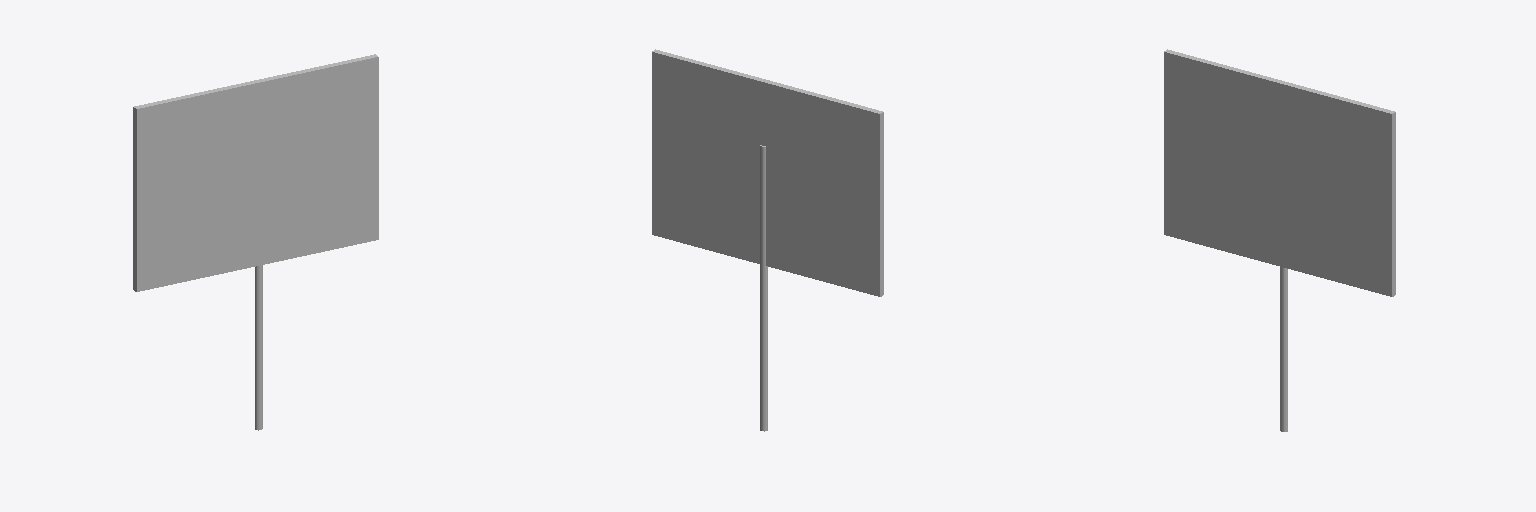
File: board_5.obj
The picture shows the model from 3 angles: view 1: azimuth 30°, elevation 25°; view 2: azimuth 150°, elevation 25°; view 3: azimuth 330°, elevation 25°; orthographic projection.
Visible parts, largest first — view 1: Cube.019_Cube.020, Cylinder.019; view 2: Cube.019_Cube.020, Cylinder.019; view 3: Cube.019_Cube.020, Cylinder.019.
Boxes of the visible parts, x1=… form: Cube.019_Cube.020: x1=133, y1=54, x2=378, y2=291; Cylinder.019: x1=255, y1=265, x2=262, y2=430; Cube.019_Cube.020: x1=652, y1=49, x2=883, y2=296; Cylinder.019: x1=760, y1=145, x2=767, y2=431; Cube.019_Cube.020: x1=1164, y1=49, x2=1395, y2=296; Cylinder.019: x1=1280, y1=267, x2=1287, y2=431.
Bounding box in the file's own units: 0.2191 × 0.3097 × 0.0164.